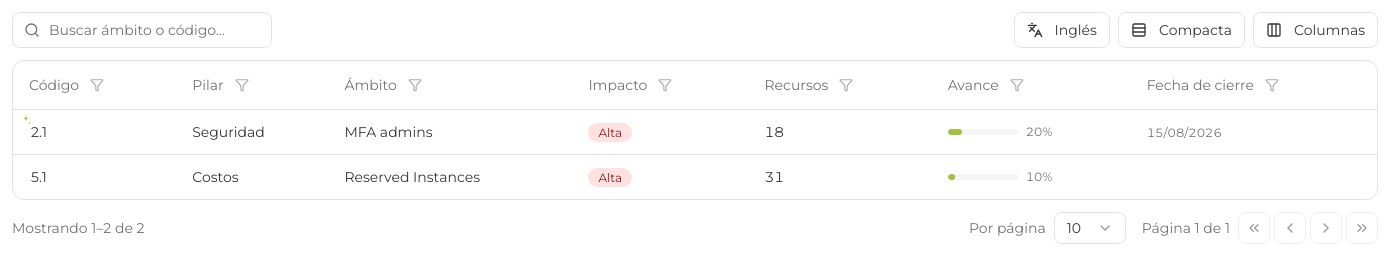
Scenario: el buscador global filtra por código o ámbito
The image size is (1390, 261).
Type "Reserved" into the field with placeholder "Buscar ámbito o código…" at (142, 30), box x1=12 y1=12 x2=272 y2=48
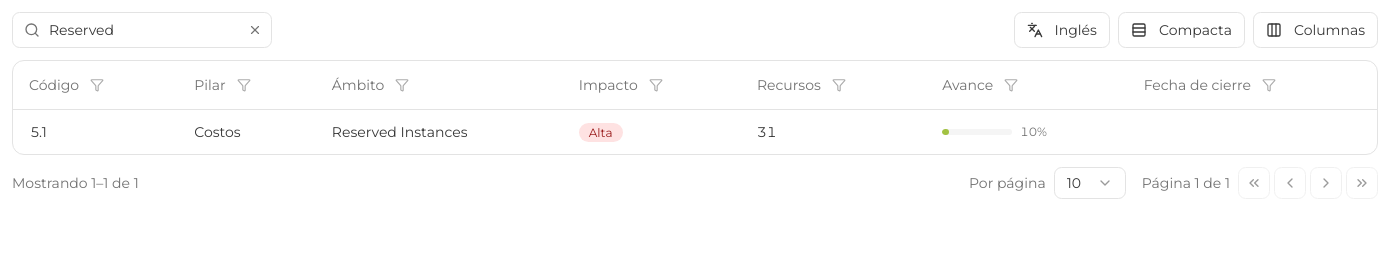
Expected: the text "Reserved Instances" is shown, x1=332 y1=122 x2=468 y2=142
Result: the text "MFA admins" is gone
